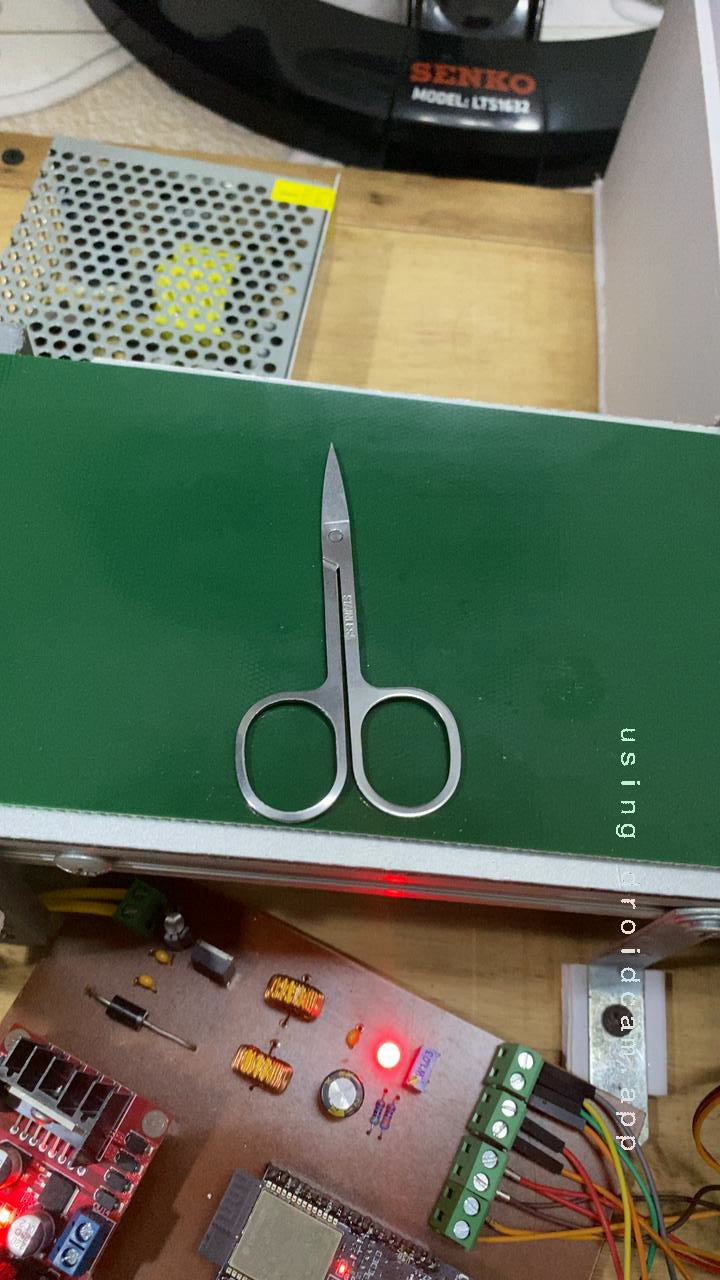scissor: (190, 443, 488, 853)
